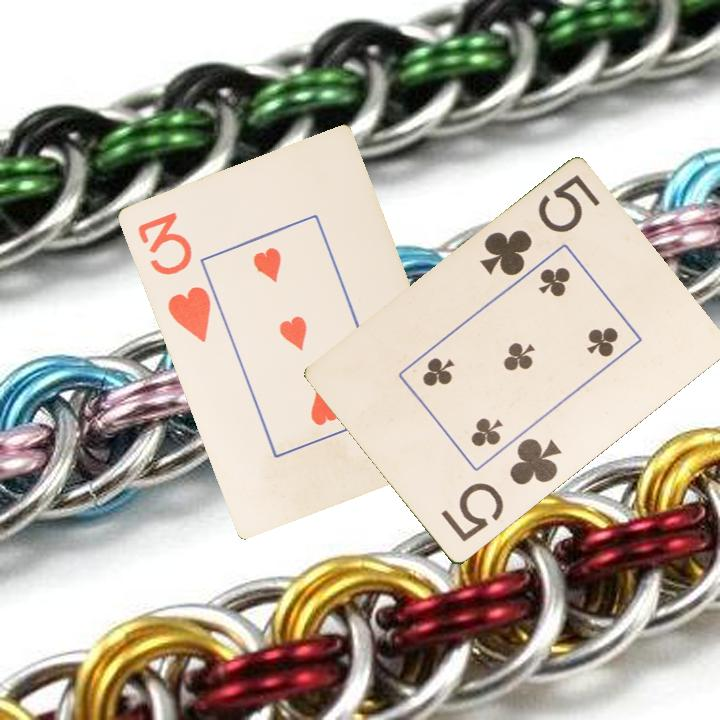3h: (133, 208, 214, 345)
5c: (437, 435, 565, 546), (476, 171, 603, 280)
